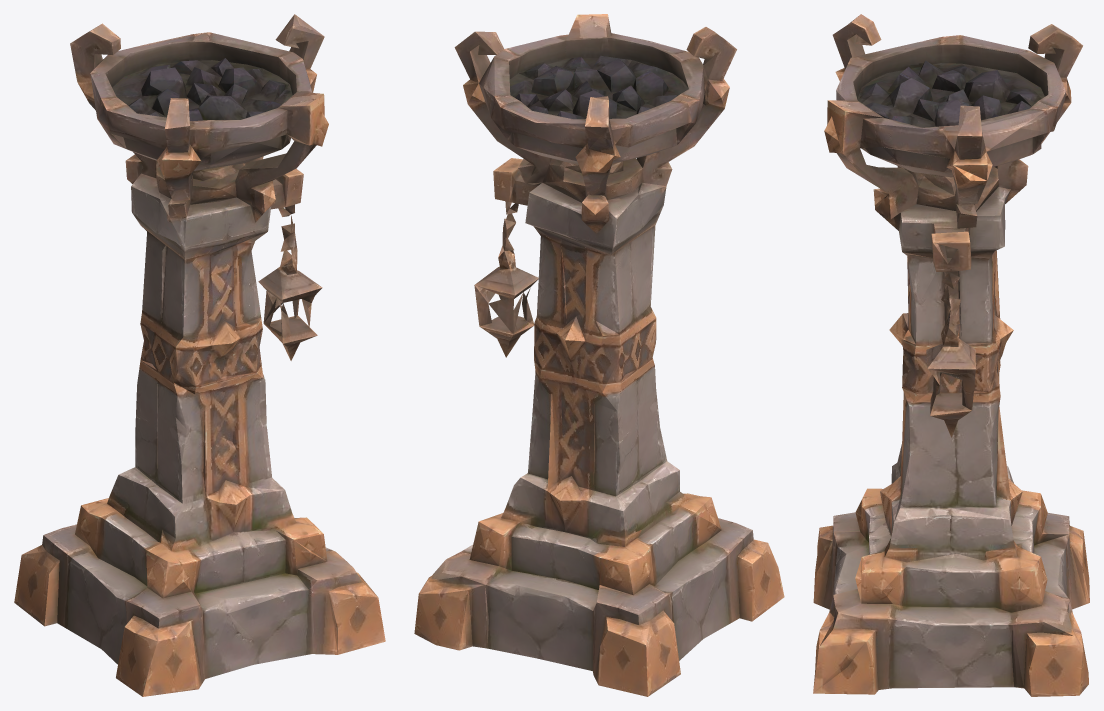
Rendered from hub_pillar_brazier.glb.
The picture shows the model from 3 angles, left to right: view 1: azimuth 30°, elevation 25°; view 2: azimuth 150°, elevation 25°; view 3: azimuth 270°, elevation 25°; orthographic projection. The views are drawn at different scales.
Parts seen in each view (by area): view 1: body; view 2: body; view 3: body.
Boxes of the visible parts, <box> form: body: <box>14,14,385,696</box>; body: <box>414,14,784,696</box>; body: <box>813,14,1089,696</box>.
Bounding box in the file's own units: 1.64 × 3.6 × 1.54.
1 material, 1 textured.
